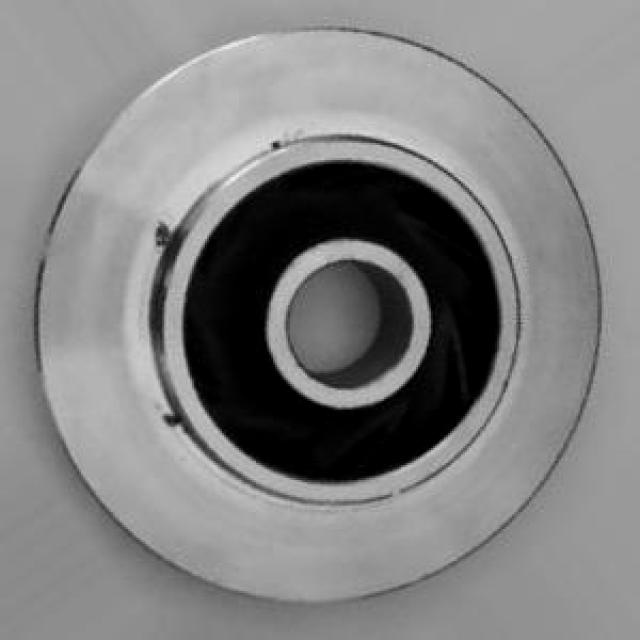Defect: (152, 217, 176, 246)
